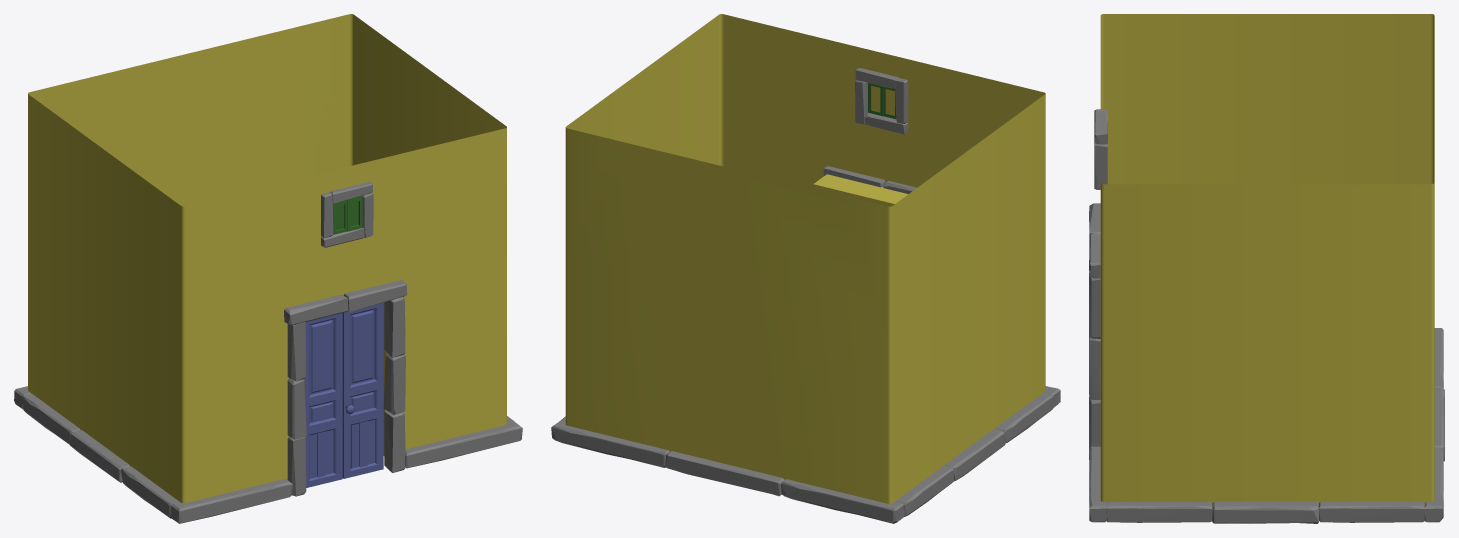
File: SM_building_modular_floor_1x1_02.fbx
3 views of the same model, side by side, from view 1: azimuth 30°, elevation 25°; view 2: azimuth 150°, elevation 25°; view 3: azimuth 270°, elevation 25° (orthographic). The views are drawn at different scales.
Visible parts, largest first — view 1: Object32359; view 2: Object32359; view 3: Object32359.
Part boxes in pixels (x1,y1,x2,y2): Object32359: [14, 14, 522, 523]; Object32359: [551, 14, 1060, 523]; Object32359: [1089, 14, 1444, 523].
Bounding box in the file's own units: 219 × 188 × 181.
